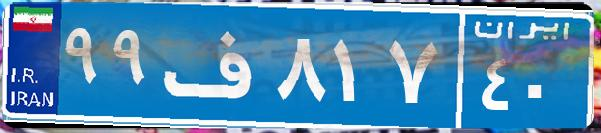0: (525, 38, 570, 115)
1: (330, 28, 385, 110)
4: (475, 38, 525, 113)
7: (385, 28, 445, 110)
8: (273, 28, 330, 110)
9: (57, 26, 110, 107), (110, 28, 158, 105)
ف: (158, 15, 273, 115)
